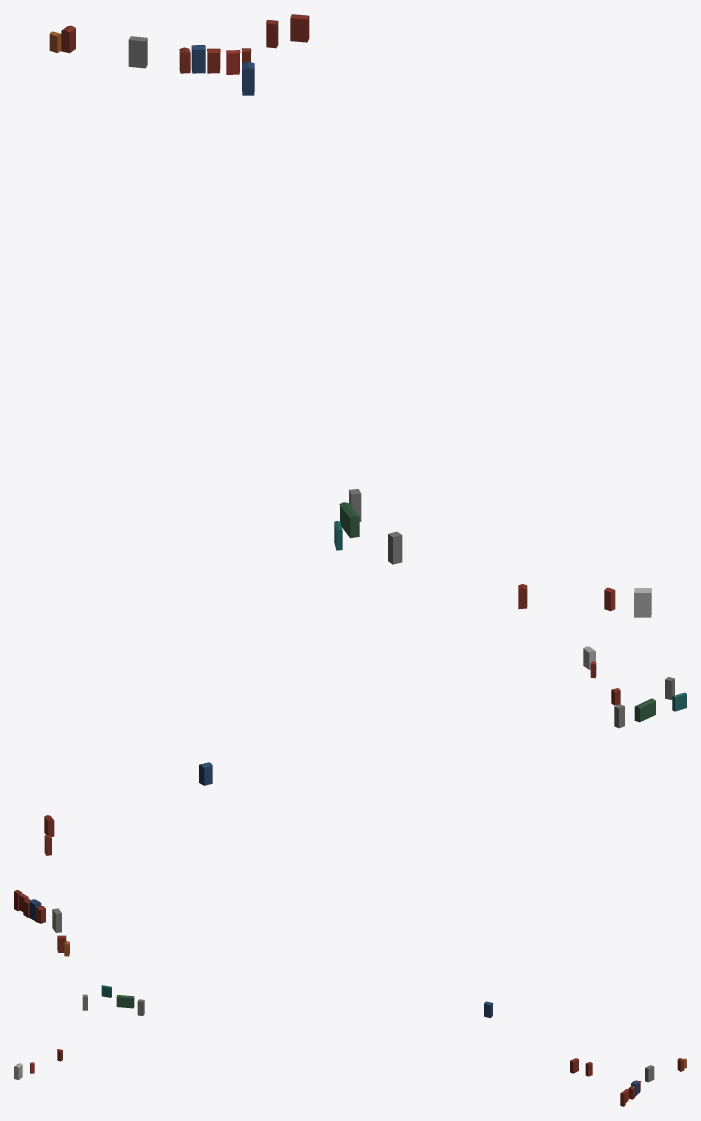
The model's file is near-15-27362-14876.691e5fe8.glb.
3 views of the same model, one above another, from view 1: azimuth 30°, elevation 25°; view 2: azimuth 150°, elevation 25°; view 3: azimuth 270°, elevation 25° (orthographic). The views are drawn at different scales.
Bounding box in the file's own units: 392 × 161 × 1030.
